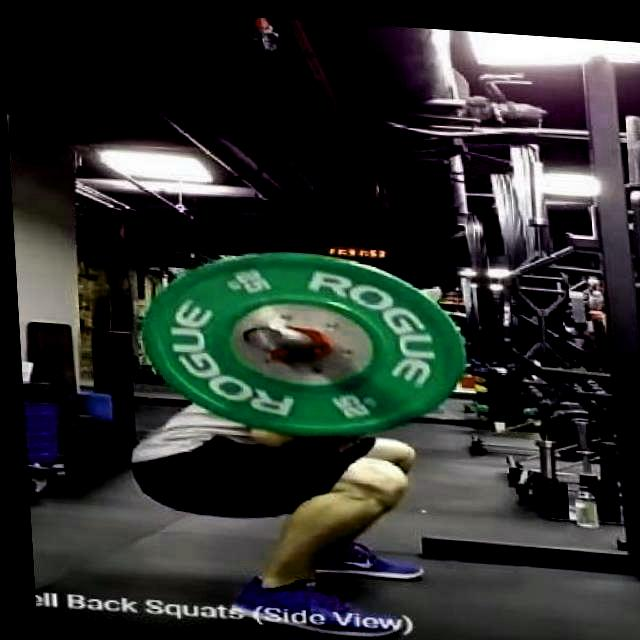barbell: (235, 317, 300, 352)
